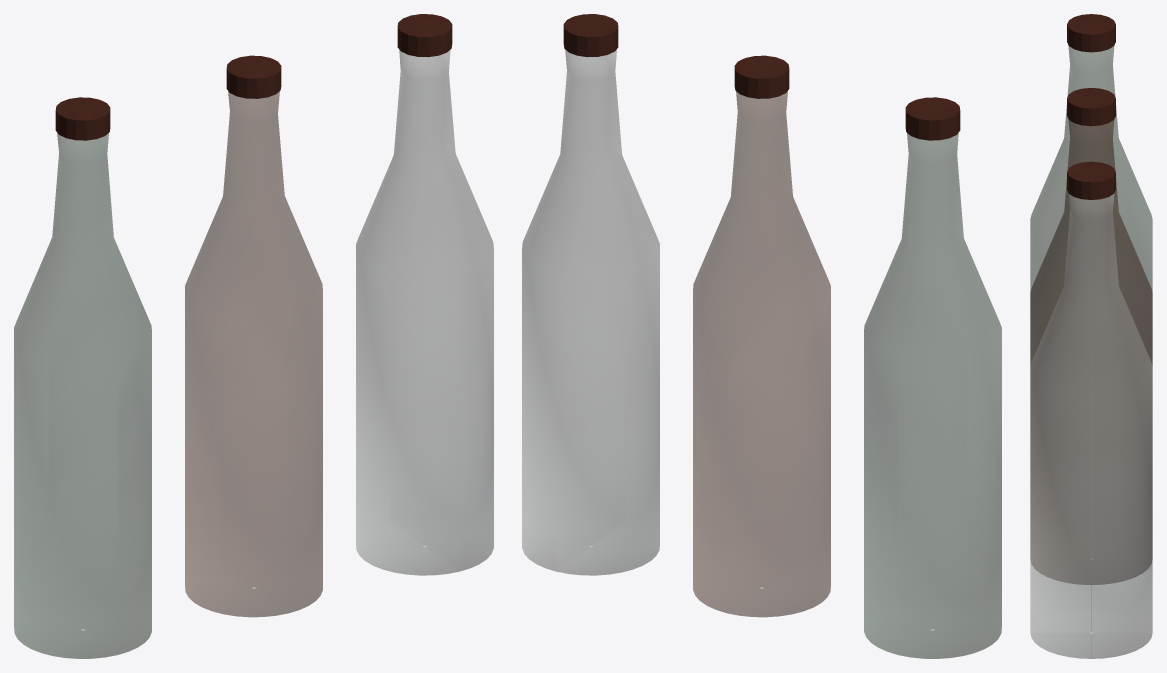
The model's file is FD05_SodaBottles.glb.
The picture shows the model from 3 angles, left to right: view 1: azimuth 30°, elevation 25°; view 2: azimuth 150°, elevation 25°; view 3: azimuth 270°, elevation 25°; orthographic projection. The views are drawn at different scales.
Parts seen in each view (by area): view 1: FD05_SodaBottles; view 2: FD05_SodaBottles; view 3: FD05_SodaBottles.
Part boxes in pixels (<box>): FD05_SodaBottles: <box>14,14,493,658</box>; FD05_SodaBottles: <box>522,14,1001,658</box>; FD05_SodaBottles: <box>1030,14,1152,658</box>.
Bounding box in the file's own units: 0.2782 × 0.3 × 0.0721.
Materials: 4 (4 with a texture image).
